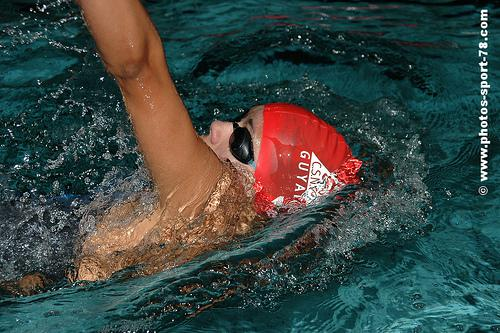human: (70, 2, 364, 279)
